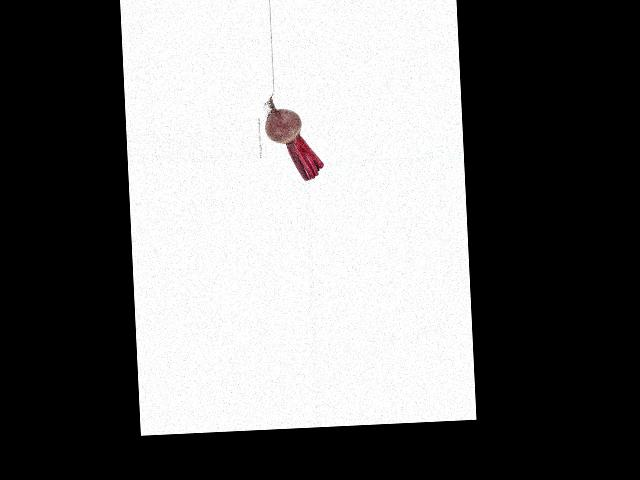beet: (263, 91, 324, 182)
